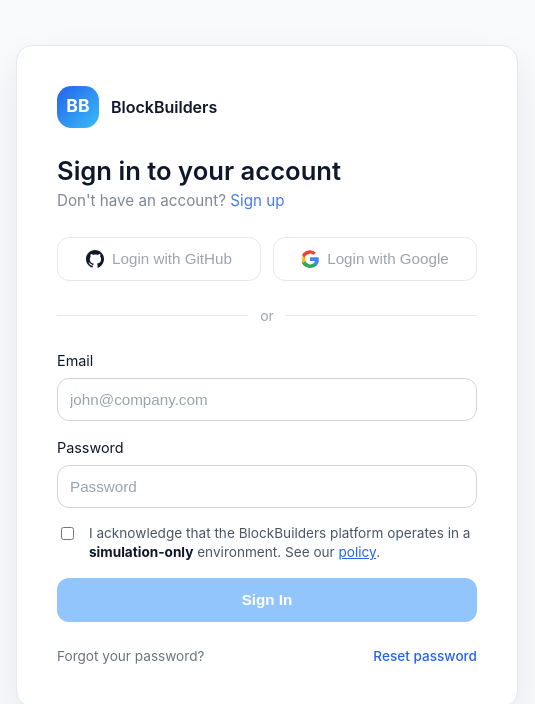
Test: LoginPage consent gating › blocks form submission when consent is missing and surfaces guidance
Type "demo@blockbuilders.tech" into the field labelled "Email" at [267, 399], box left=57, top=378, right=477, bottom=421
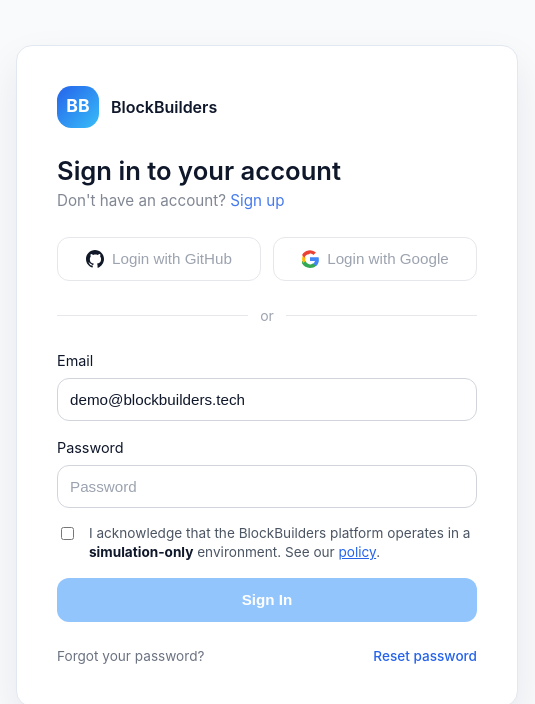
Type "sufficientlySecure1!" into the password field labelled "Password" at [267, 486], box left=57, top=465, right=477, bottom=508
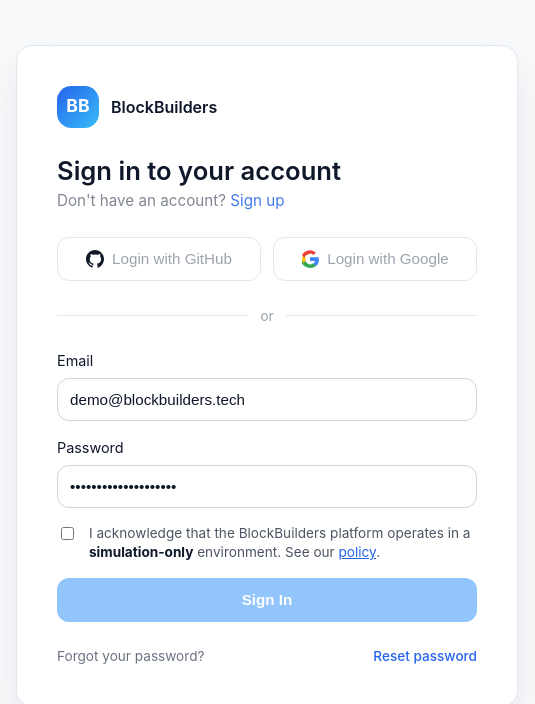
Submit the form named "Sign In", box left=57, top=350, right=477, bottom=622
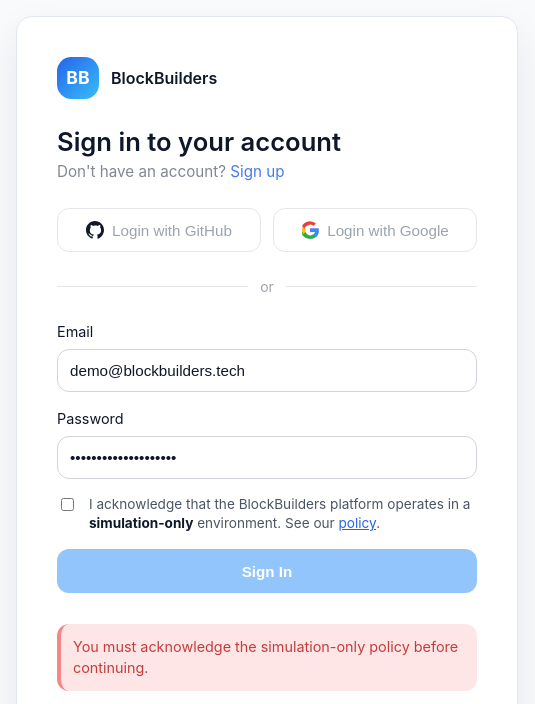
Expected: the message reads "You must acknowledge the simulation-only policy before continuing.", left=73, top=638, right=458, bottom=676
